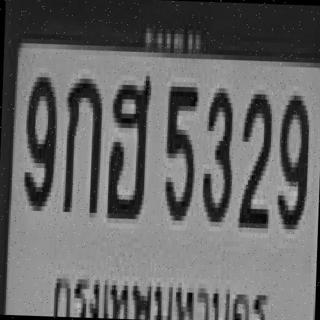A01: (61, 73, 101, 213)
A44: (106, 72, 150, 217)
N02: (238, 89, 270, 223)
N03: (200, 83, 233, 217)
N05: (163, 82, 196, 216)
N09: (22, 72, 57, 206), (275, 90, 308, 224)
